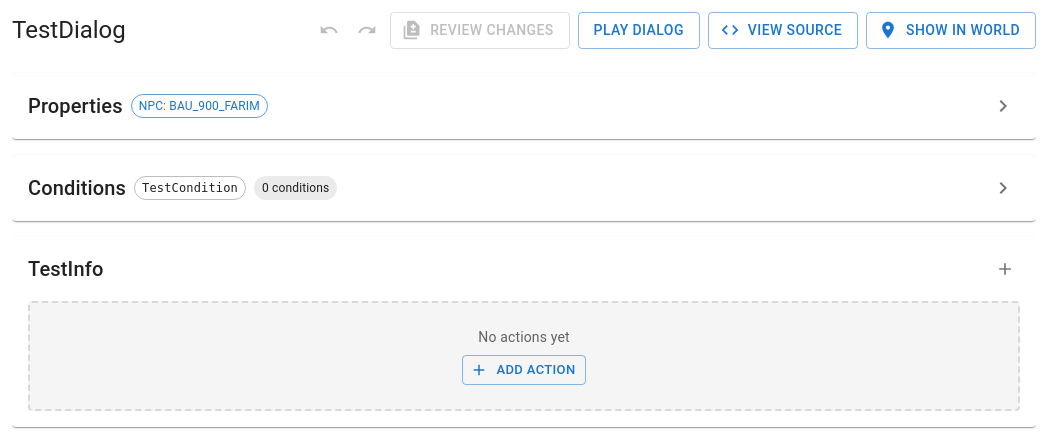
Scenario: the NPC/Dialog view jumps to the world › offers to open the world, read off the spawn site's own STARTUP_ function
This screenshot has width=1048, height=446.
Hover over the element showing "Show in World" at (951, 30), box [866, 12, 1036, 48]
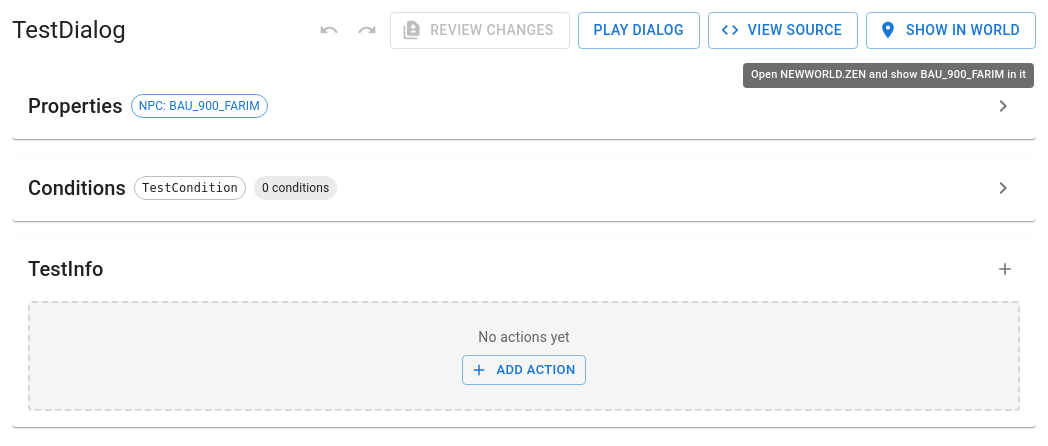
Expected: the text "Open NEWWORLD.ZEN and show BAU_900_FARIM in it" is shown, [743, 63, 1034, 88]
